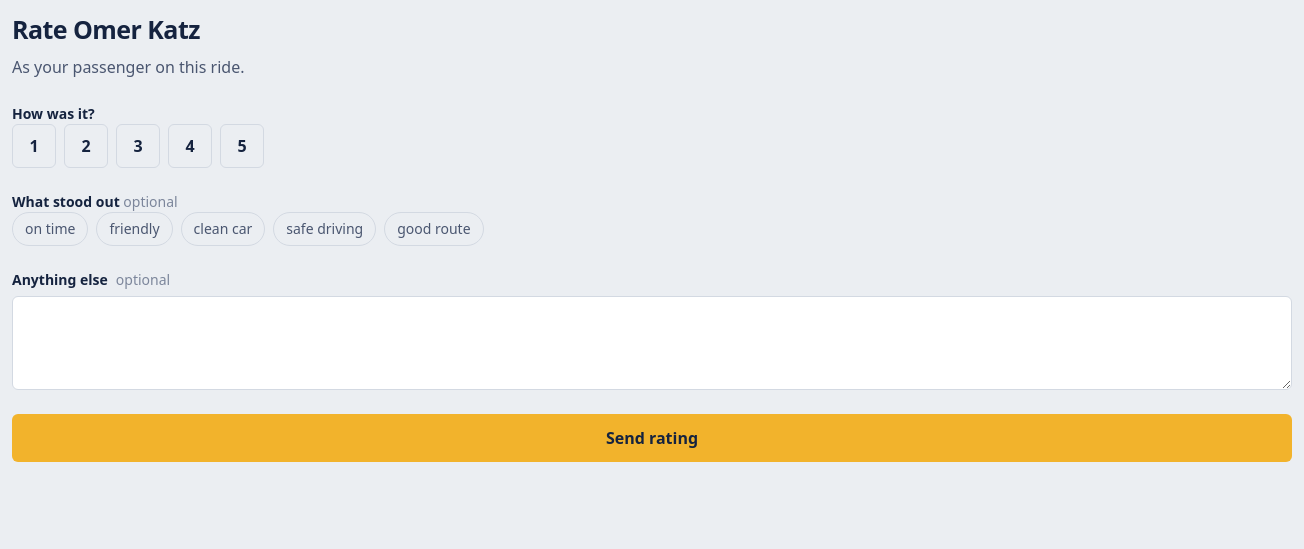
Scenario: rating someone after a ride › shows the server message when this person was already rated
Expected: the heading "Rate Omer Katz" is shown, [12, 12, 200, 46]
Click the radio button labelled "4": coordinates (190, 146) [168, 124, 212, 168]
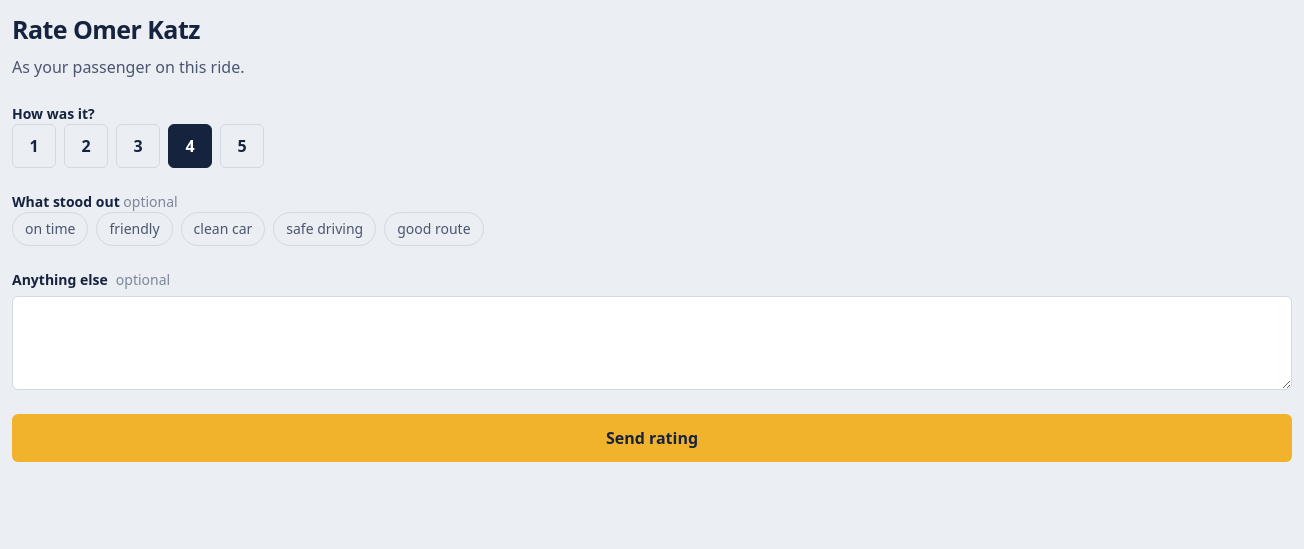
Click the button "Send rating": coordinates (652, 438) [12, 414, 1292, 462]
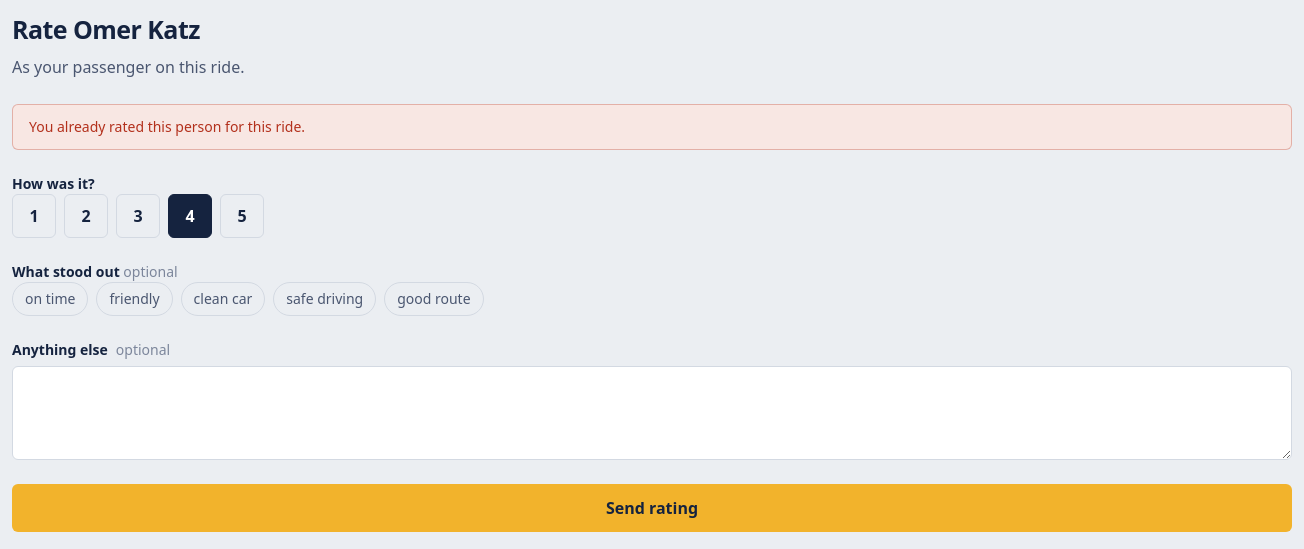
Expected: the text "You already rated this person for this ride." is shown, [12, 104, 1292, 150]
